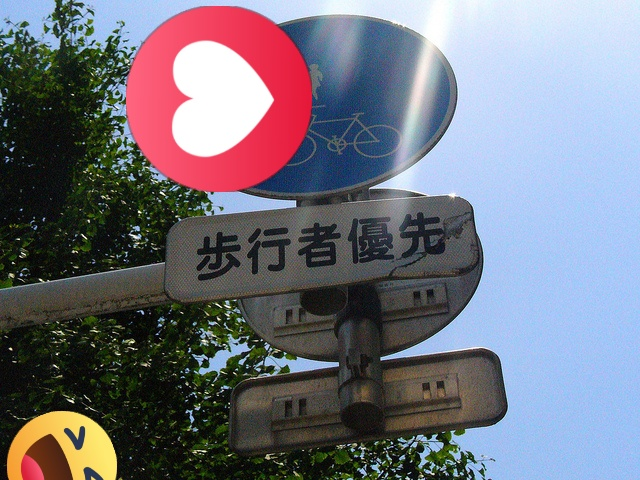haha: (7, 411, 117, 480)
love: (126, 6, 312, 192)
